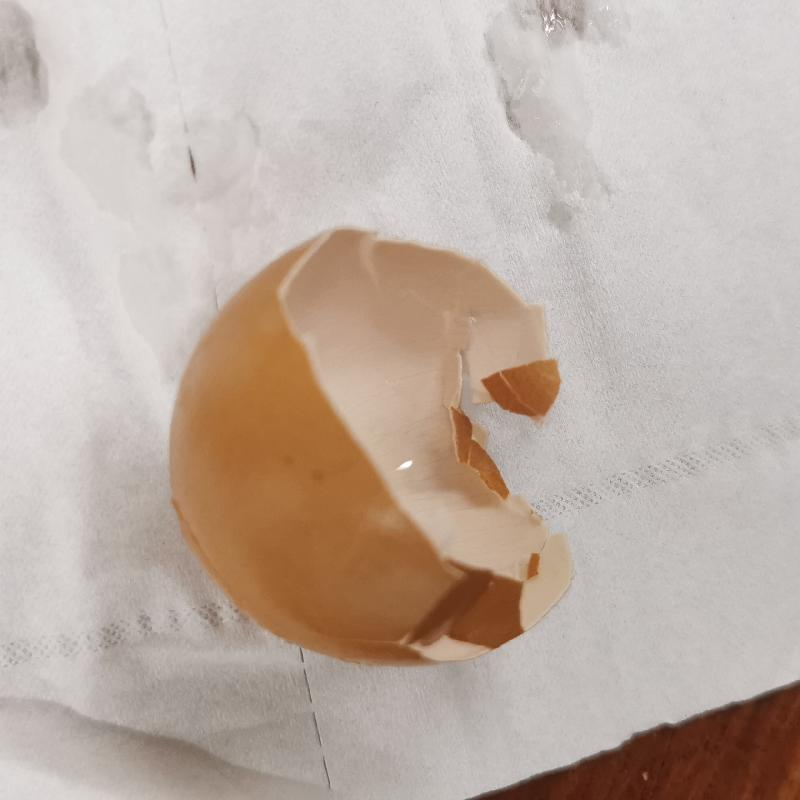eggshell: (165, 229, 569, 678)
